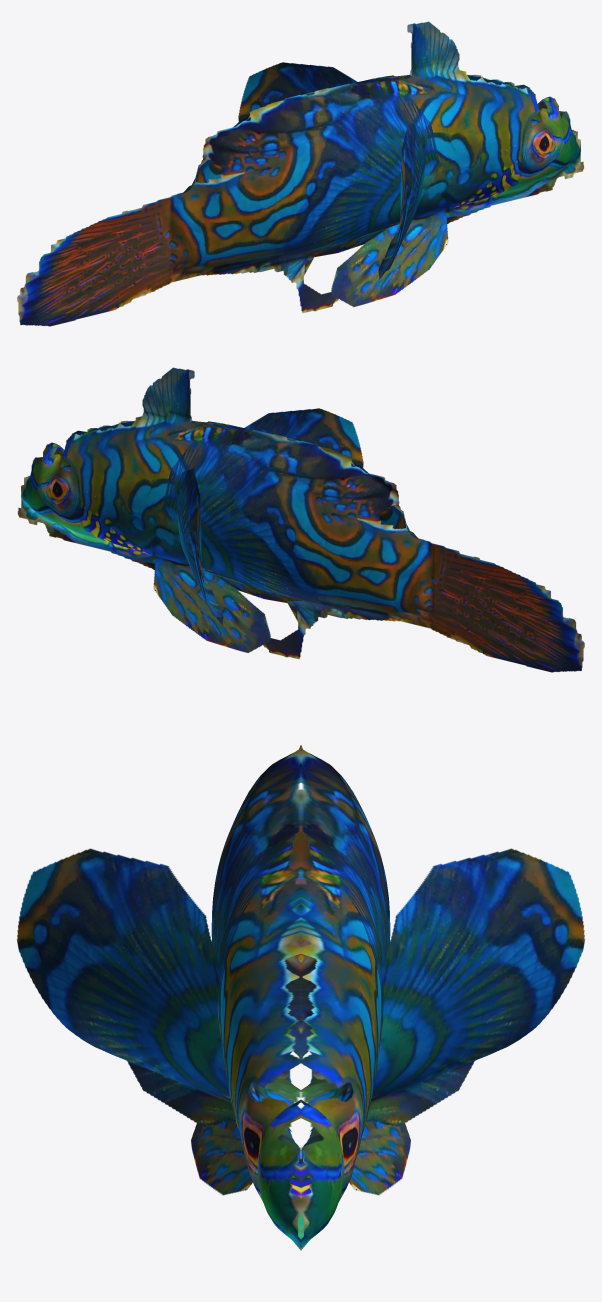
File: species-mandarin-photo.glb
The picture shows the model from 3 angles, top to bottom: view 1: azimuth 30°, elevation 25°; view 2: azimuth 150°, elevation 25°; view 3: azimuth 270°, elevation 25°; orthographic projection. The views are drawn at different scales.
Parts seen in each view (by area): view 1: mandarin; view 2: mandarin; view 3: mandarin.
Part boxes in pixels (x1=…): mandarin: x1=17, y1=21, x2=583, y2=326; mandarin: x1=18, y1=367, x2=584, y2=672; mandarin: x1=17, y1=745, x2=584, y2=1250.
Size of the model in its own units: 0.071 by 0.0319 by 0.0347.
1 material, 1 textured.
